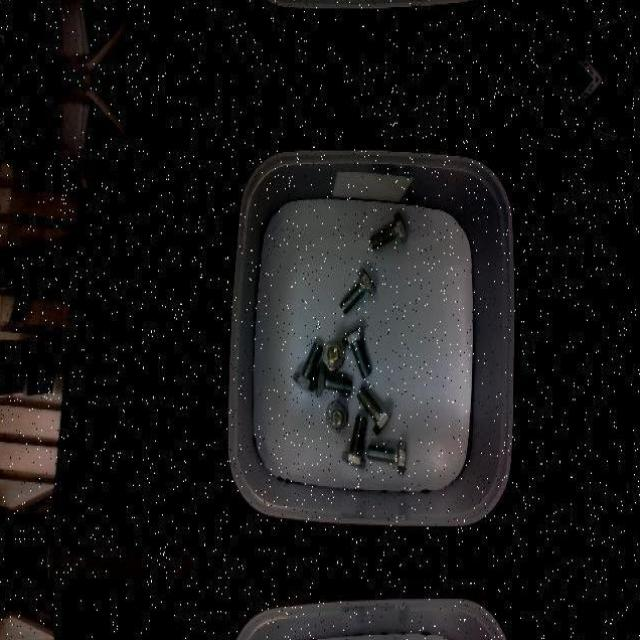screw: (338, 266, 376, 314), (356, 387, 394, 432), (340, 412, 367, 468), (343, 326, 372, 378), (293, 340, 322, 390), (368, 211, 406, 249), (366, 439, 408, 473), (315, 362, 352, 396), (323, 339, 344, 373), (327, 400, 348, 433)
